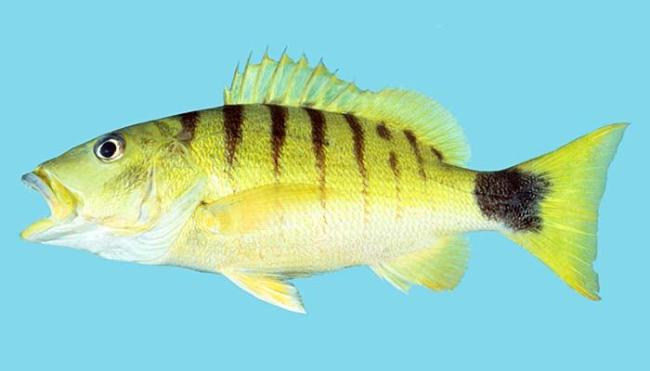fish: (19, 46, 631, 317)
